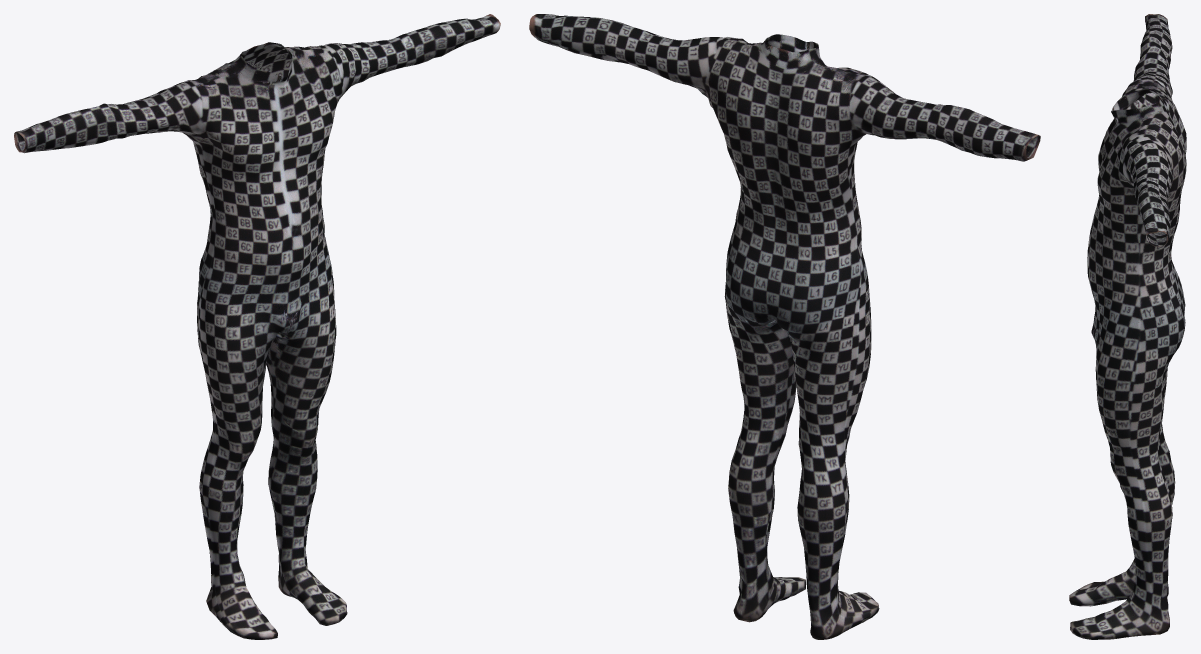
Rendered from SMPLWithSocks_tri_OnlySuit.obj.
3 renders of one model, left to right at view 1: azimuth 30°, elevation 25°; view 2: azimuth 150°, elevation 25°; view 3: azimuth 270°, elevation 25°, orthographic. The views are drawn at different scales.
Size of the model in its own units: 1374 by 1526 by 312.
1 material, 1 textured.
